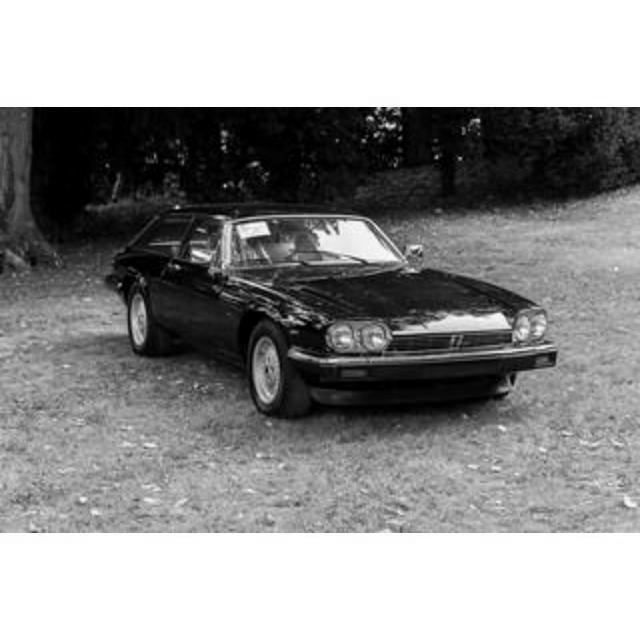fender-dent: (224, 277, 316, 329)
